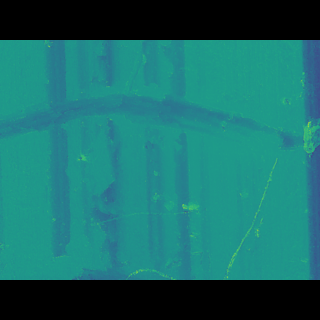Loch: (0, 101, 312, 157)
